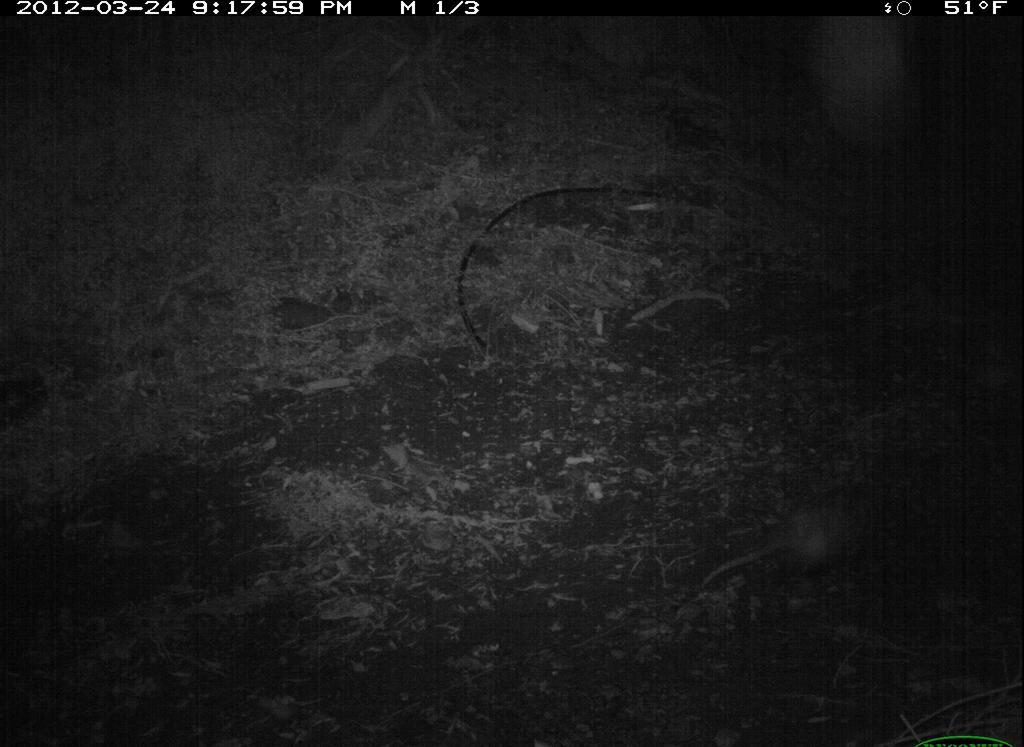opossum: (689, 477, 926, 614)
